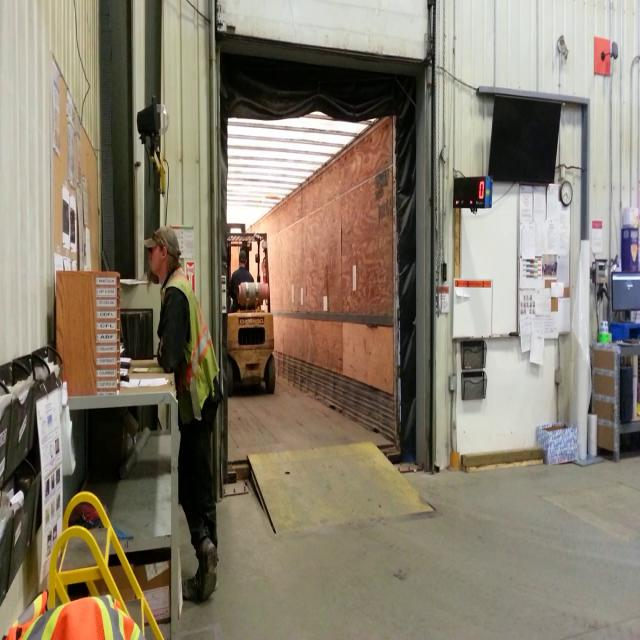Chariot elevateur: (220, 218, 282, 405)
